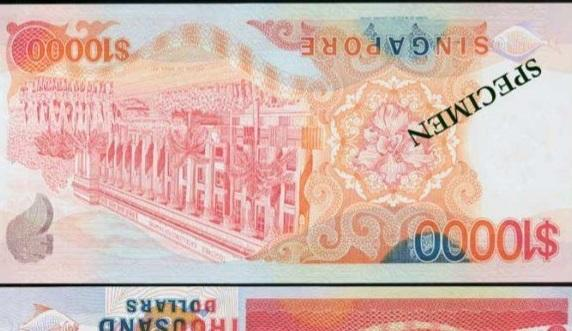10000SingaporeDollar: (0, 5, 572, 280)
